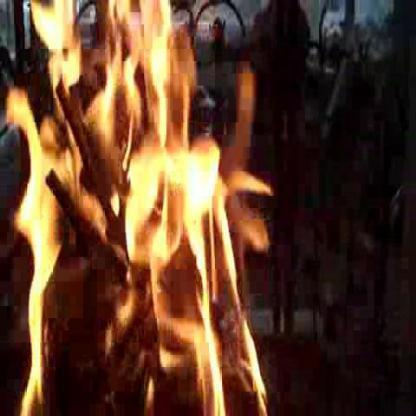Fire: (2, 0, 278, 415)
